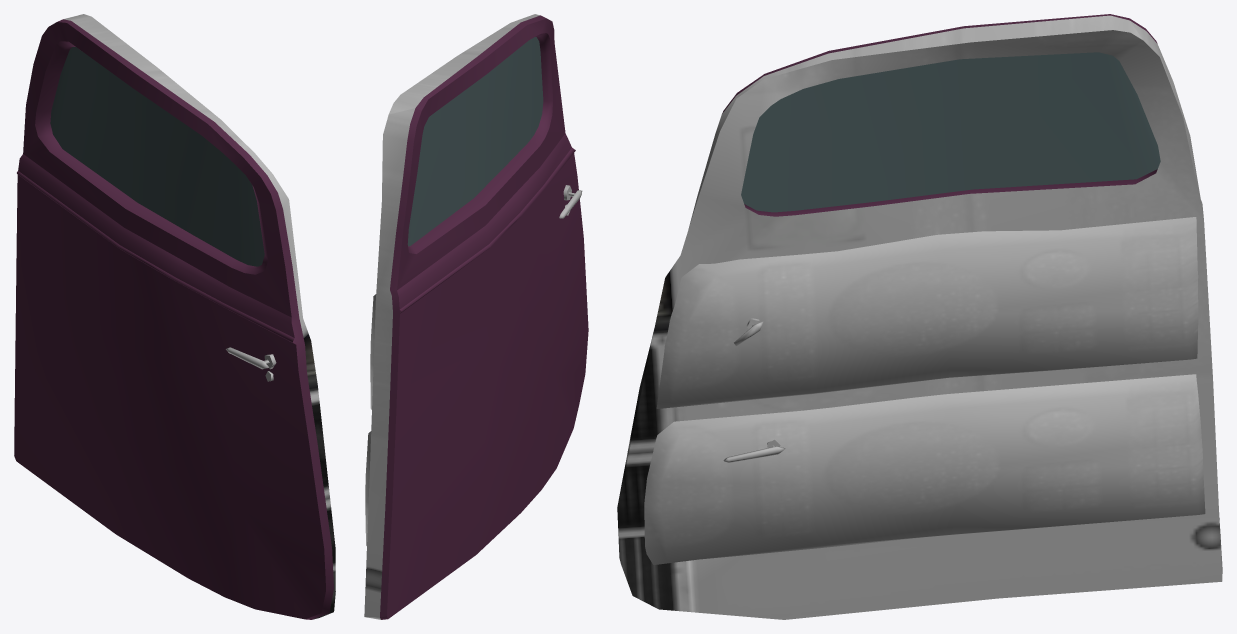
Rendered from DoorL.obj.
3 views of the same model, side by side, from view 1: azimuth 30°, elevation 25°; view 2: azimuth 150°, elevation 25°; view 3: azimuth 270°, elevation 25° (orthographic). The views are drawn at different scales.
Parts seen in each view (by area): view 1: door_right; view 2: door_right; view 3: door_right.
Part boxes in pixels (box(x1,y1,x2,y2)): door_right: box(14, 14, 335, 619); door_right: box(364, 14, 588, 619); door_right: box(617, 14, 1222, 619).
Size of the model in its own units: 3.7 by 19.81 by 18.76.
